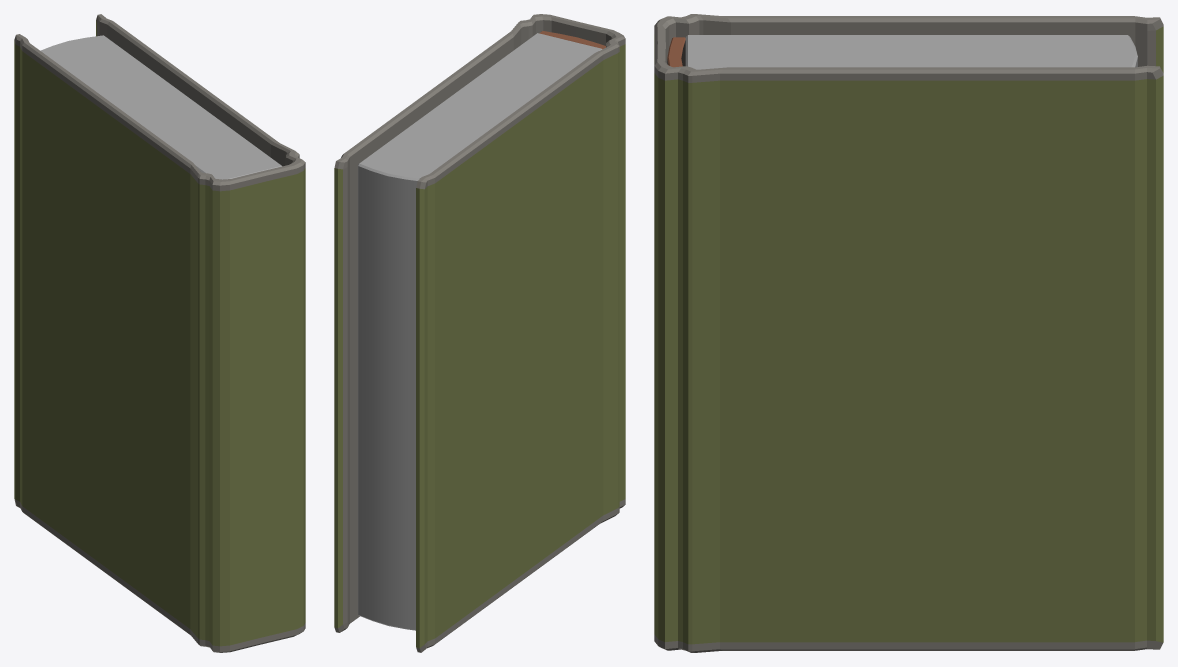
Rendered from Book_D.fbx.
The picture shows the model from 3 angles, left to right: view 1: azimuth 30°, elevation 25°; view 2: azimuth 150°, elevation 25°; view 3: azimuth 270°, elevation 25°; orthographic projection. The views are drawn at different scales.
Visible parts, largest first — view 1: BookE; view 2: BookE; view 3: BookE.
Part boxes in pixels (left/top/right/bottom): BookE: left=14, top=14, right=305, bottom=652; BookE: left=334, top=14, right=625, bottom=652; BookE: left=654, top=14, right=1163, bottom=652.
Size of the model in its own units: 0.1293 by 0.5818 by 0.4618.
